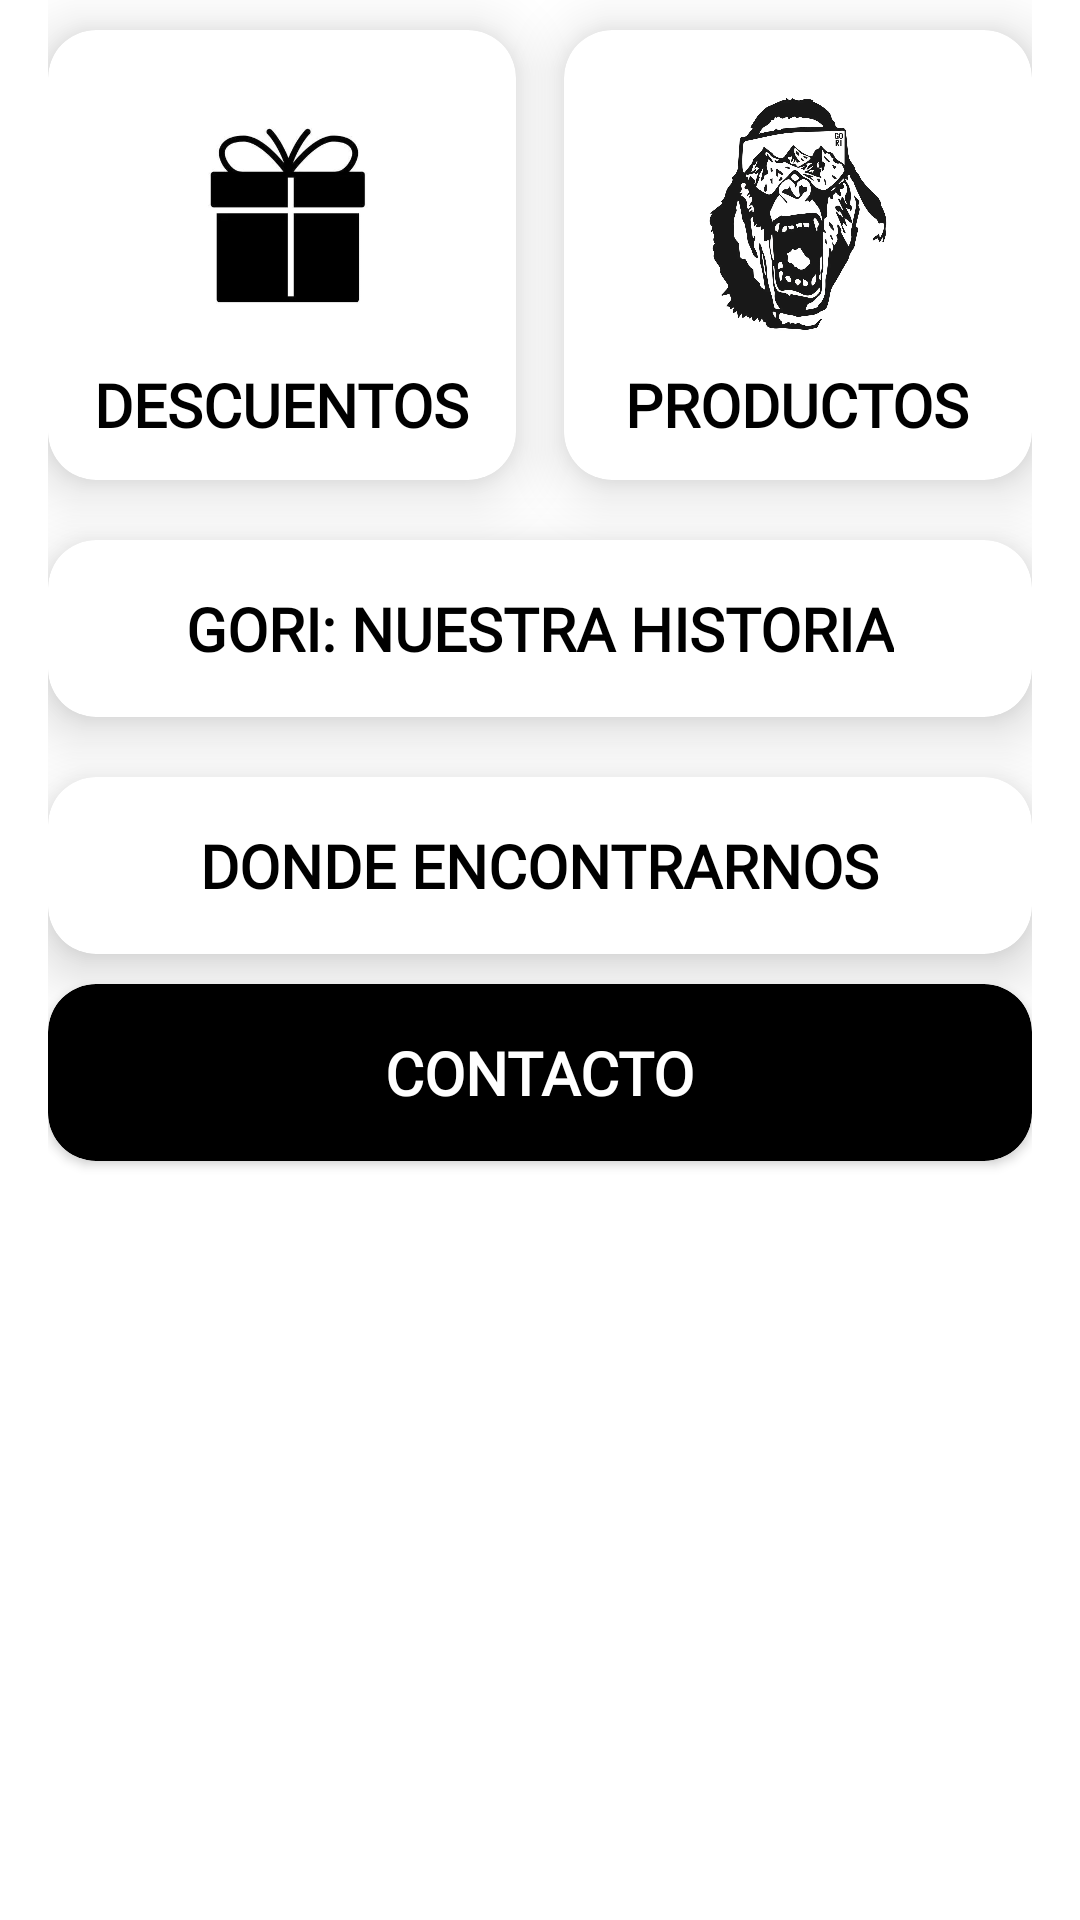

Icon click points for this 1080 × 1920 phone screenshot, format (x,y):
paquete regalo: (287,215)
